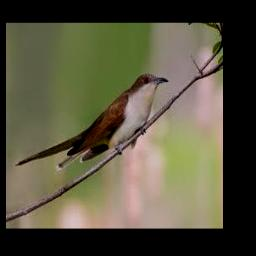Cuckoo: (14, 74, 169, 171)
